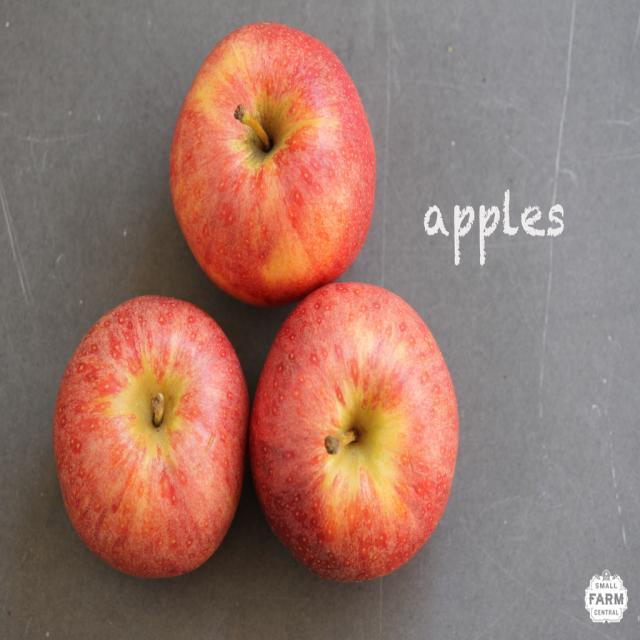Healty Apple: (248, 281, 459, 585), (167, 22, 375, 310), (49, 292, 247, 584)
